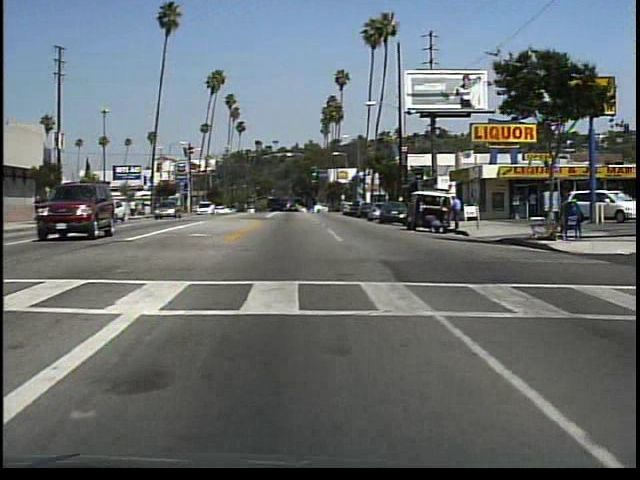person: (449, 192, 469, 235), (507, 189, 524, 223), (426, 215, 444, 236), (528, 188, 540, 219), (38, 194, 45, 225)
